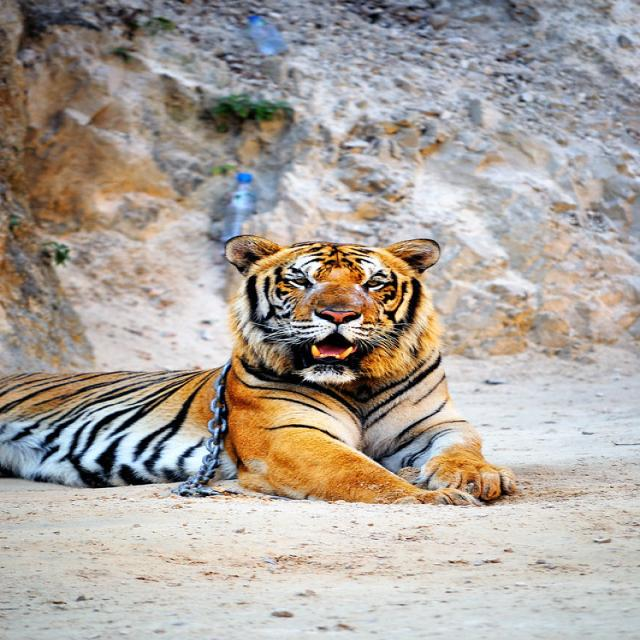Tiger: (0, 232, 521, 506)
